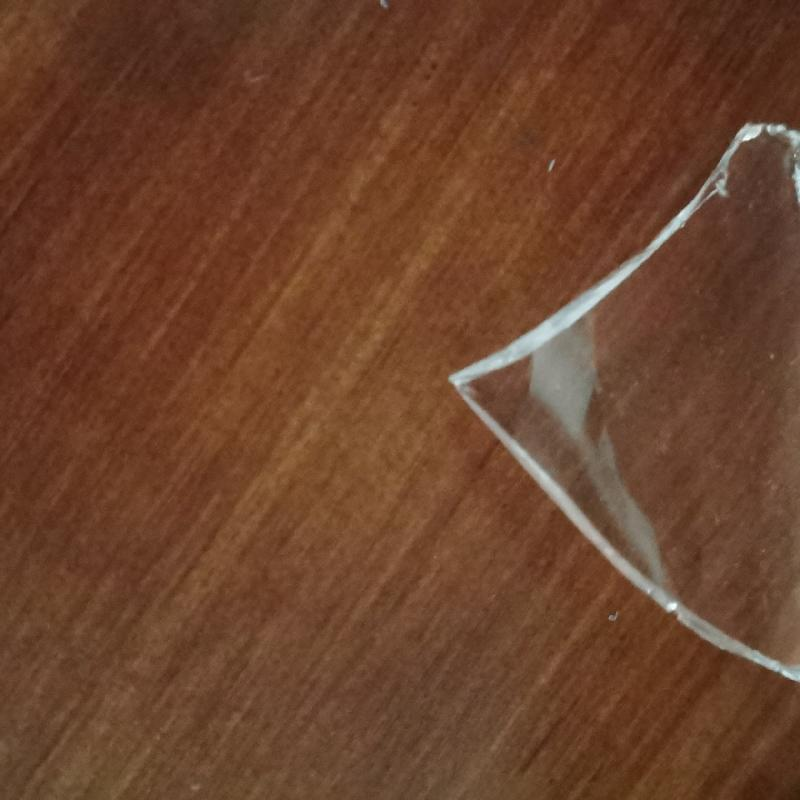glass: (441, 113, 800, 690)
